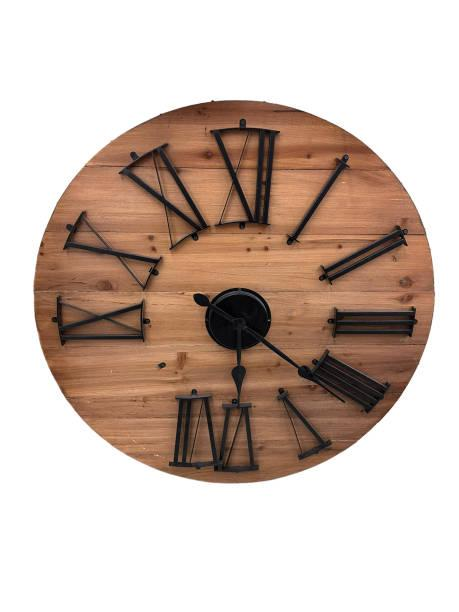clock: (32, 101, 434, 485)
